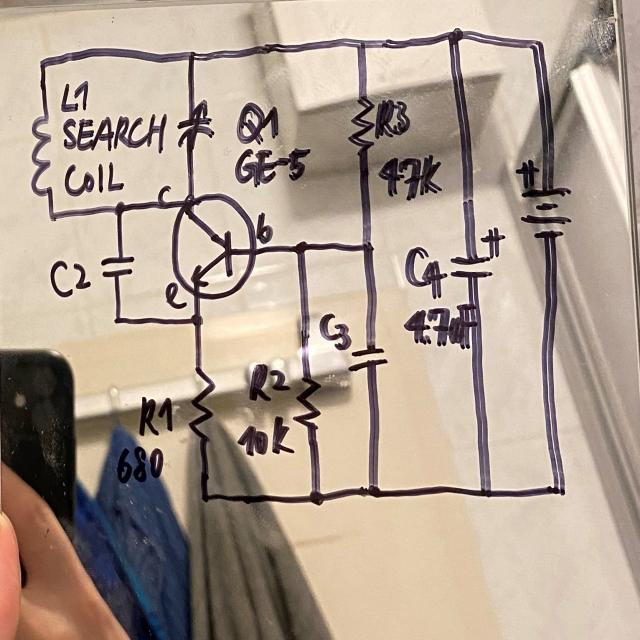capacitor: (448, 224, 506, 283), (174, 99, 218, 153), (346, 344, 388, 374), (98, 252, 136, 280)
inductor: (28, 113, 54, 197)
junction: (306, 487, 325, 508), (445, 25, 464, 45), (188, 310, 206, 330), (550, 481, 568, 499), (352, 35, 369, 54), (34, 53, 50, 73), (366, 482, 383, 499), (293, 239, 309, 257), (183, 47, 199, 65), (112, 200, 127, 218), (44, 208, 59, 225), (110, 311, 124, 328), (360, 239, 375, 254), (530, 38, 544, 52), (478, 486, 492, 499), (199, 491, 211, 504)
resistor: (183, 363, 221, 446), (345, 92, 376, 156), (292, 373, 324, 434)
source: (513, 157, 578, 250)
text: (61, 113, 167, 155), (401, 301, 478, 349), (232, 146, 312, 189), (378, 154, 444, 201), (402, 243, 448, 300), (237, 414, 296, 458), (62, 160, 126, 197), (234, 100, 281, 148), (47, 256, 93, 300), (116, 445, 164, 486), (244, 362, 291, 402), (136, 394, 175, 439), (374, 97, 411, 141), (317, 311, 352, 351), (57, 78, 87, 115), (163, 281, 188, 310), (255, 213, 273, 244), (154, 182, 172, 206)
transistor: (168, 191, 257, 299)
